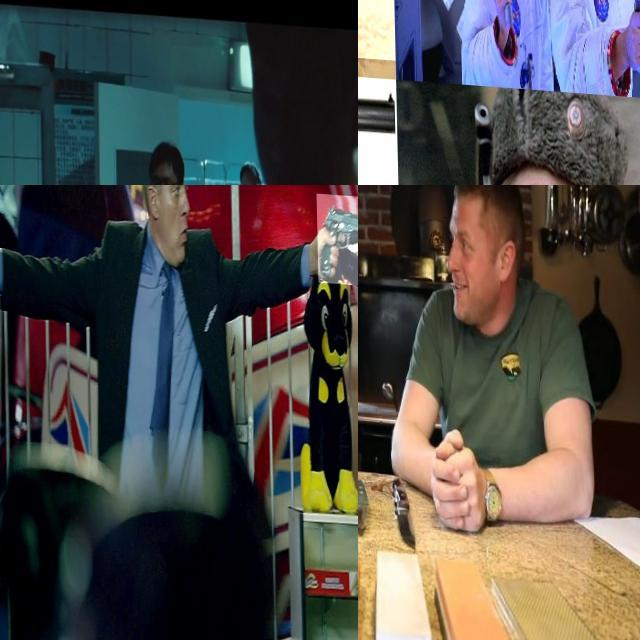-: (358, 453, 388, 547)
gun-knife-thesis - v11 Yolov5 augmented: (358, 61, 518, 185), (358, 0, 442, 68), (450, 90, 506, 185), (315, 188, 358, 279), (481, 0, 514, 85), (628, 0, 640, 69)
